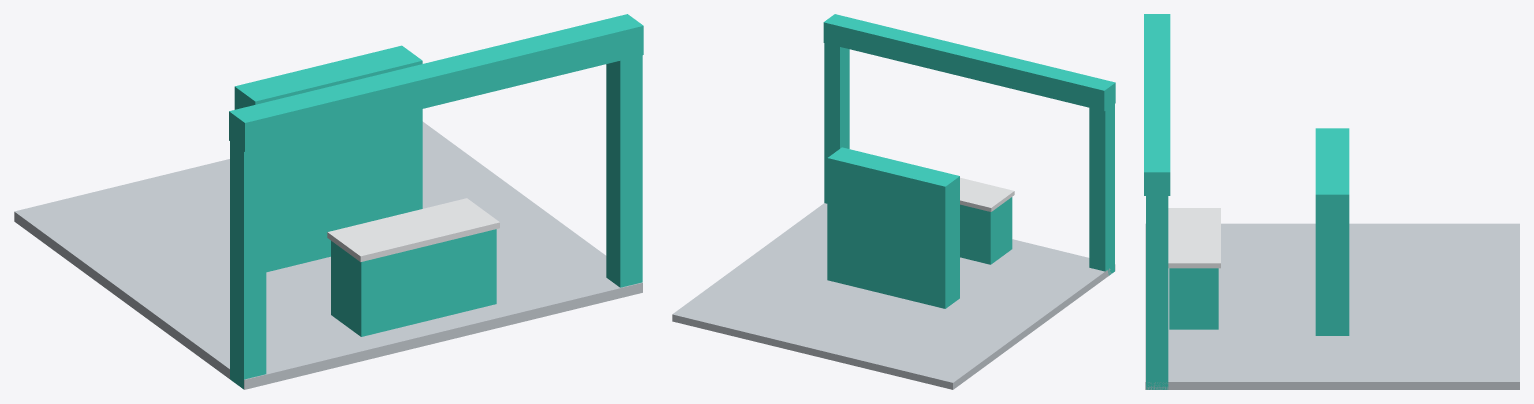
3 renders of one model, left to right at view 1: azimuth 30°, elevation 25°; view 2: azimuth 150°, elevation 25°; view 3: azimuth 270°, elevation 25°, orthographic. The views are drawn at different scales.
Parts seen in each view (by area): view 1: Exhibition Booth Concept; view 2: Exhibition Booth Concept; view 3: Exhibition Booth Concept.
Boxes of the visible parts, x1,y1,x2,y2 form: Exhibition Booth Concept: (14,14,643,389); Exhibition Booth Concept: (672,14,1115,389); Exhibition Booth Concept: (1144,14,1519,389).
Size of the model in its own units: 5 by 3.2 by 5.02.
